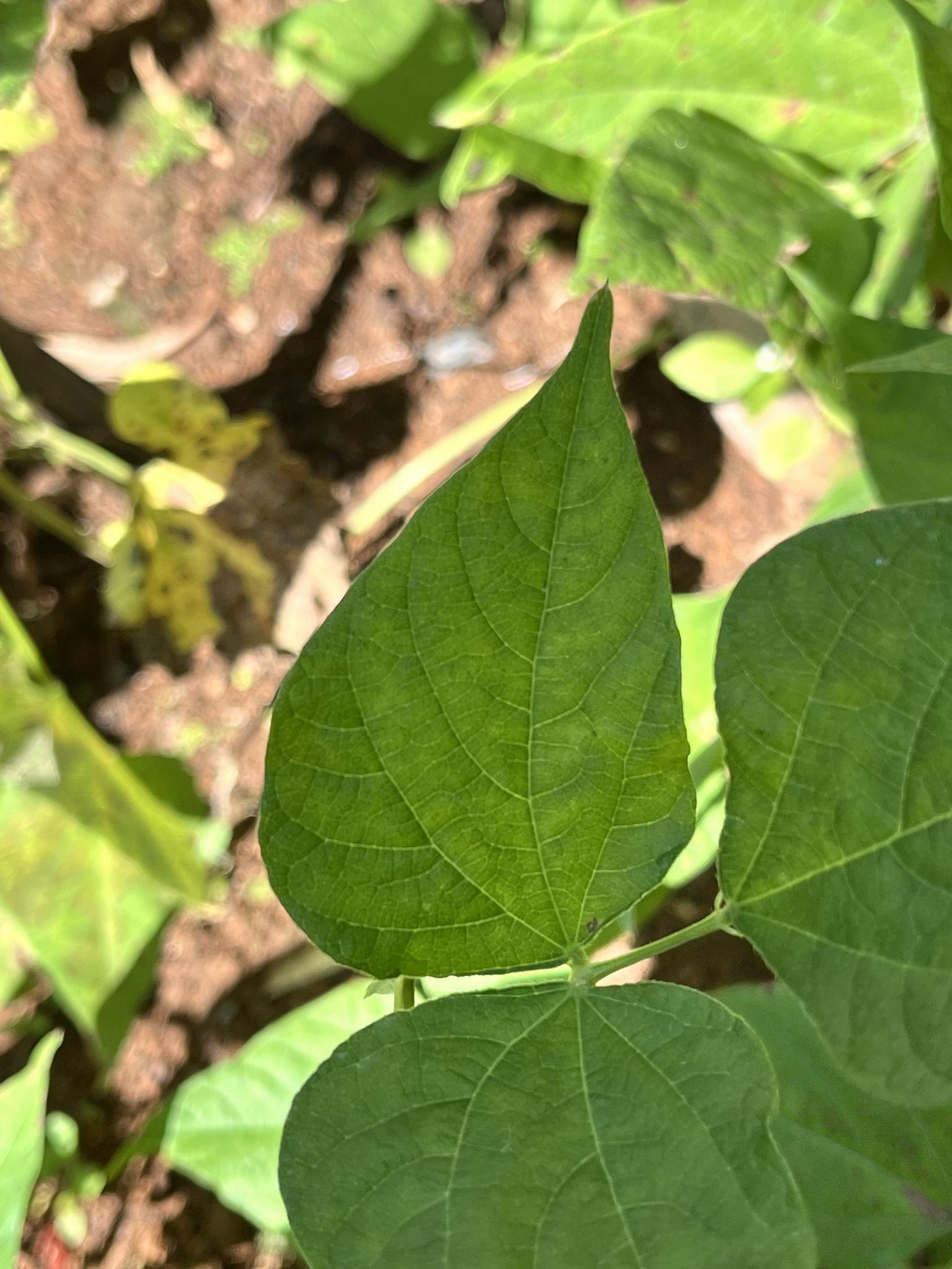sehat: (255, 293, 698, 977)
